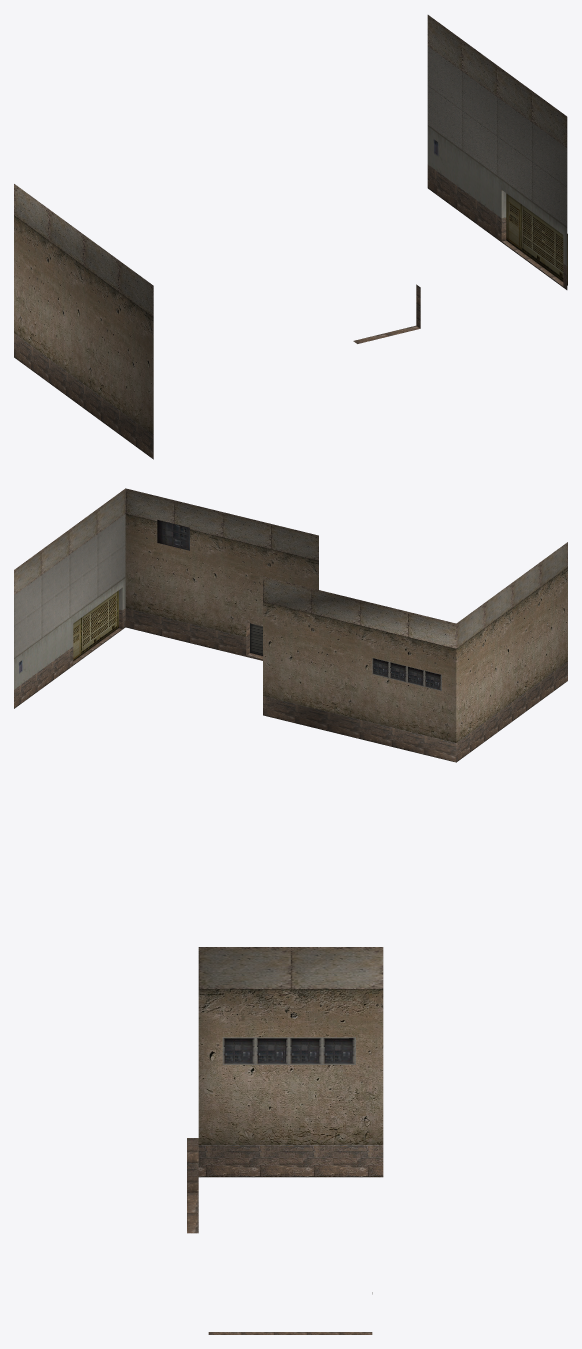
File: M11Z1_TownWall08_B.glb
The picture shows the model from 3 angles, top to bottom: view 1: azimuth 30°, elevation 25°; view 2: azimuth 150°, elevation 25°; view 3: azimuth 270°, elevation 25°; orthographic projection. The views are drawn at different scales.
Parts seen in each view (by area): view 1: M11Z1_TOWNWALL08_B; view 2: M11Z1_TOWNWALL08_B; view 3: M11Z1_TOWNWALL08_B.
Boxes of the visible parts, left/top/right/bottom form: M11Z1_TOWNWALL08_B: left=14, top=15, right=567, bottom=459; M11Z1_TOWNWALL08_B: left=14, top=488, right=567, bottom=762; M11Z1_TOWNWALL08_B: left=187, top=947, right=383, bottom=1334.
Size of the model in its own units: 32.3 by 11 by 24.
8 materials, 8 textured.
